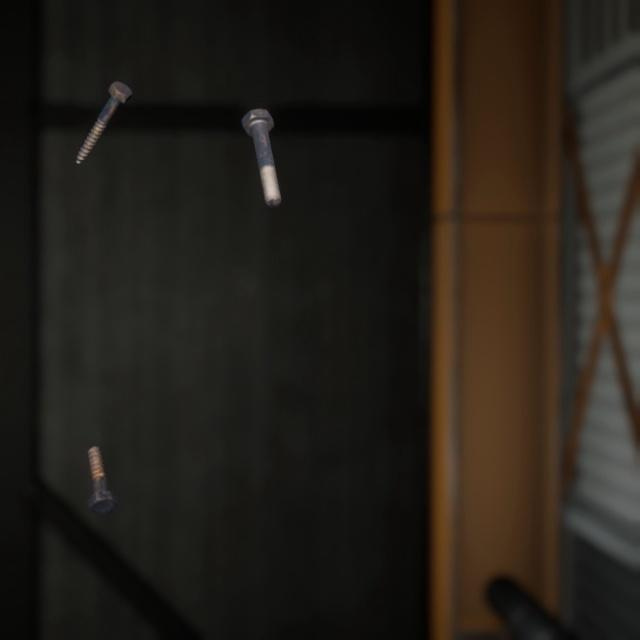bolt: (71, 64, 137, 156), (237, 90, 286, 197), (83, 421, 122, 497)
